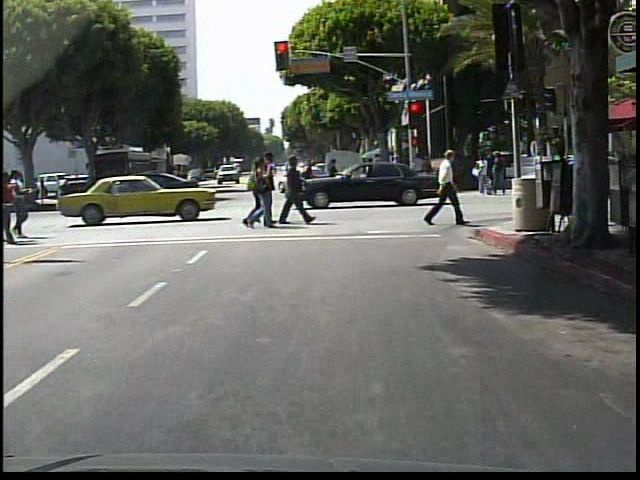person: (427, 141, 469, 234)
